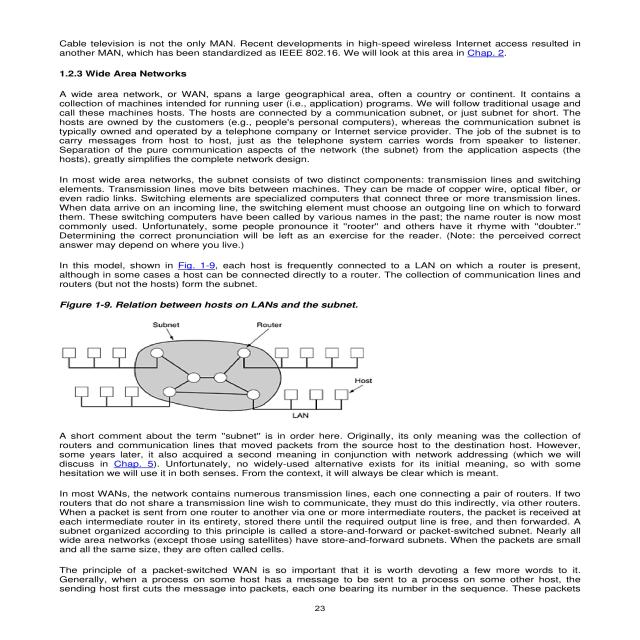diagram: (48, 297, 374, 423), (55, 298, 384, 422), (639, 79, 640, 122)
